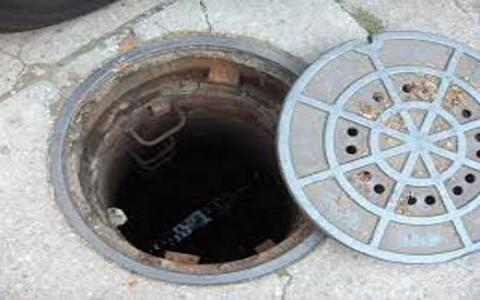open manhole: (51, 32, 325, 285)
